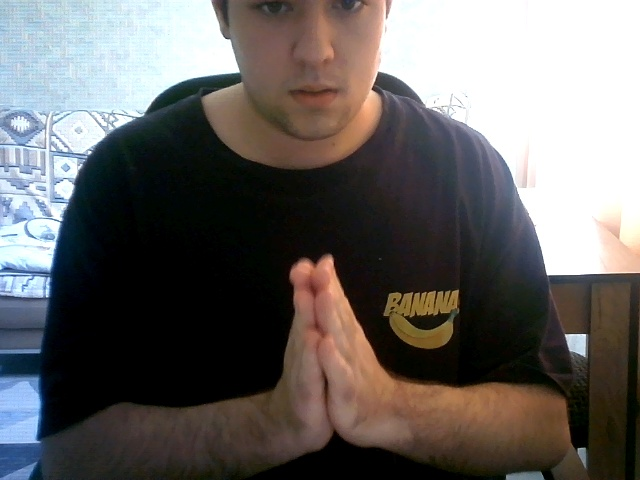please: (264, 232, 411, 469)
